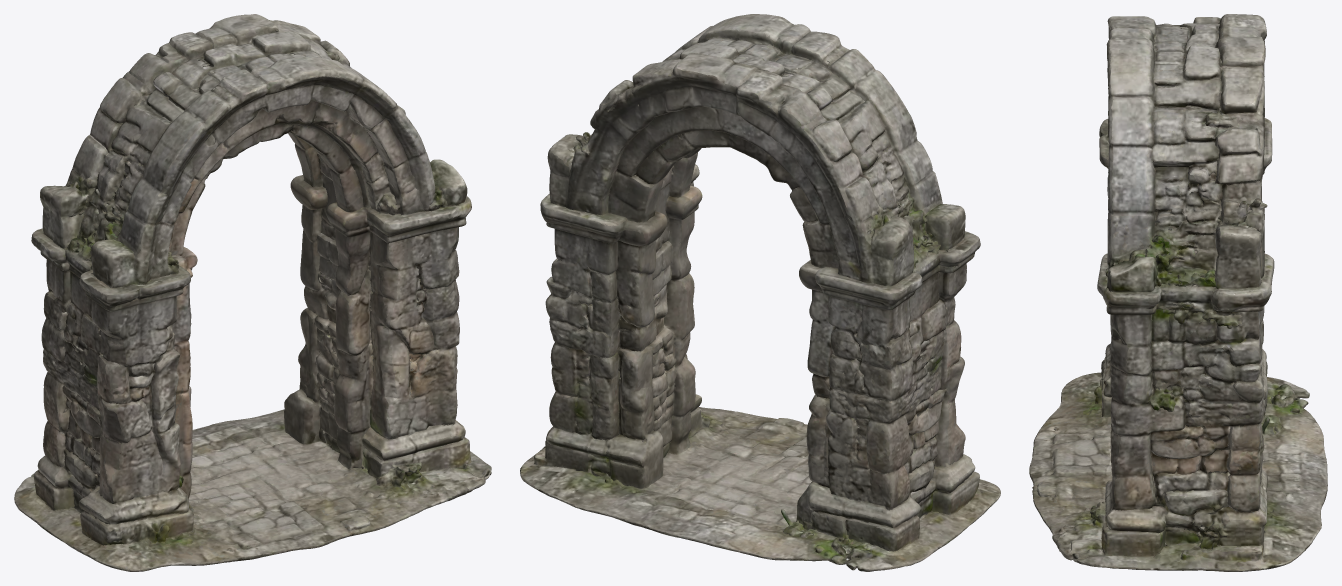
File: platform.glb
3 renders of one model, left to right at view 1: azimuth 30°, elevation 25°; view 2: azimuth 150°, elevation 25°; view 3: azimuth 270°, elevation 25°, orthographic.
Parts seen in each view (by area): view 1: geometry_0; view 2: geometry_0; view 3: geometry_0.
Part boxes in pixels (x1,y1,x2,y2): geometry_0: (14, 14, 491, 571); geometry_0: (520, 14, 1000, 571); geometry_0: (1029, 14, 1327, 571).
Bounding box in the file's own units: 5.18 × 5.5 × 3.35.
1 material, 1 textured.
